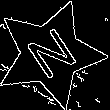N_SE: (18, 22, 82, 86)
